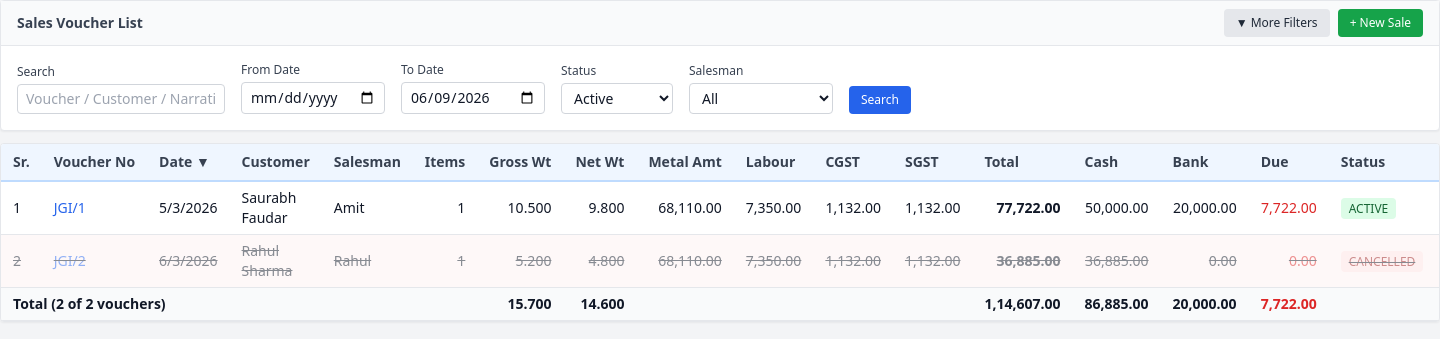
Test: SalesEntryList filter count & clear › shows active filter count when filters are set
The width and height of the screenshot is (1440, 339).
# Set search text (should increment count)
Type "Saurabh" into the field with test id "search-input".
click(121, 99); type("Saurabh")  # box [17,84,225,114]
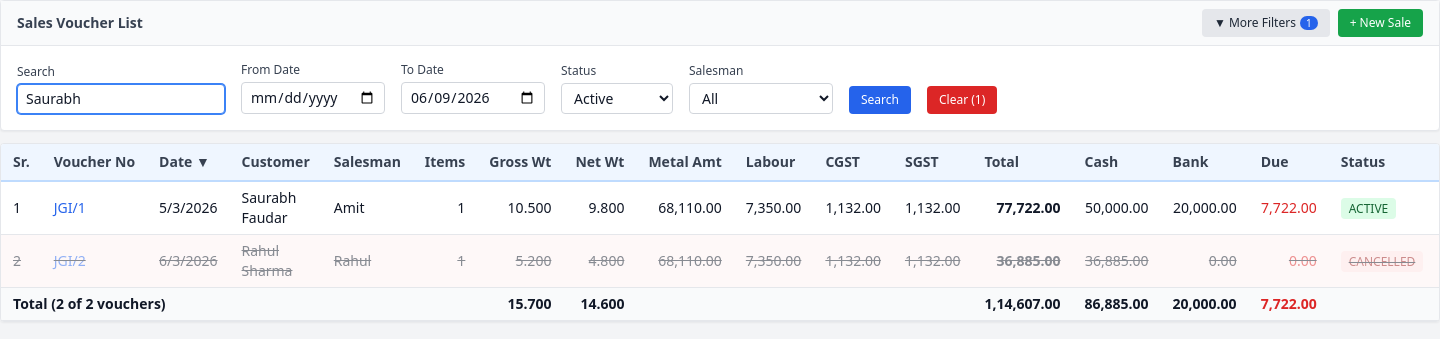
Now the button with test id "toggle-advanced" shows "1", box [1202,9,1330,37]
